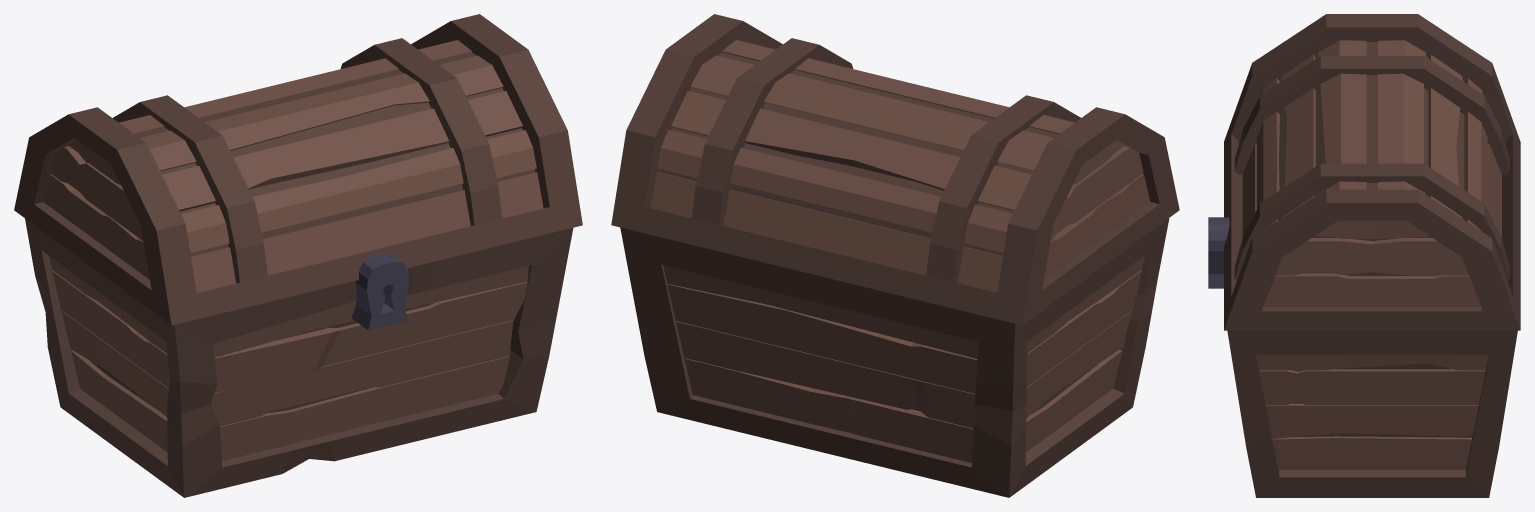
The model's file is chest.glb.
The picture shows the model from 3 angles, left to right: view 1: azimuth 30°, elevation 25°; view 2: azimuth 150°, elevation 25°; view 3: azimuth 270°, elevation 25°; orthographic projection. The views are drawn at different scales.
Parts seen in each view (by area): view 1: Chest_Top, Chest_Base; view 2: Chest_Top, Chest_Base; view 3: Chest_Top, Chest_Base.
Part boxes in pixels (box(x1,y1,x2,y2)): Chest_Top: box(14, 14, 582, 325); Chest_Base: box(25, 218, 573, 497); Chest_Top: box(611, 14, 1179, 325); Chest_Base: box(620, 218, 1169, 497); Chest_Top: box(1224, 14, 1520, 330); Chest_Base: box(1208, 217, 1517, 497).
Size of the model in its own units: 1.18 by 0.8985 by 0.8238.
1 material, 1 textured.
